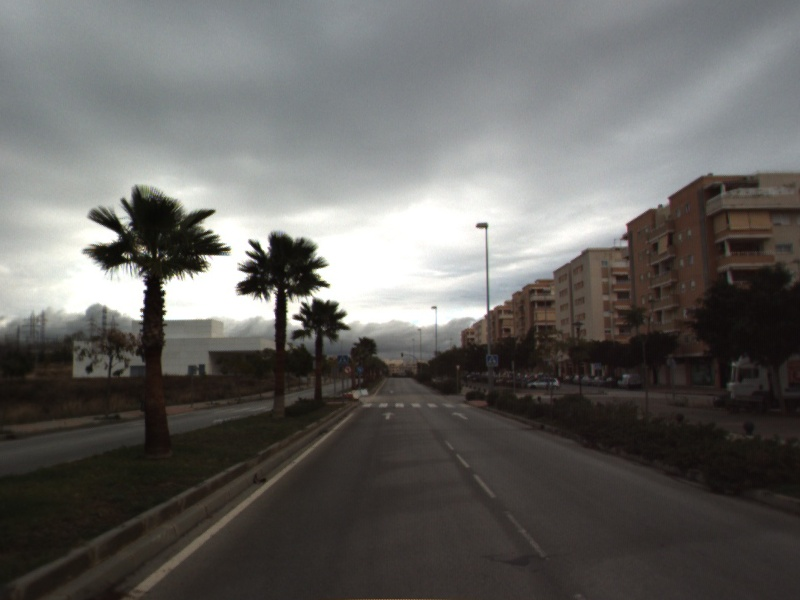STRAIGHT: (450, 410, 470, 421), (380, 409, 397, 421)
